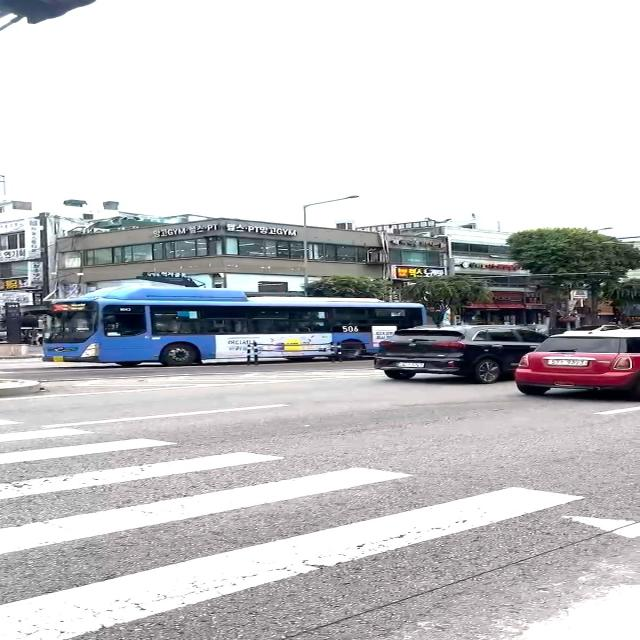building: (60, 211, 376, 287)
car: (49, 289, 434, 365), (372, 324, 550, 384), (513, 324, 639, 400)
